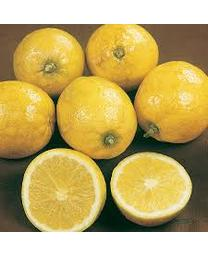lemon: (22, 148, 106, 233), (56, 75, 136, 160), (111, 151, 193, 225), (135, 60, 207, 142), (86, 23, 159, 91), (13, 28, 82, 95), (1, 79, 54, 158)
